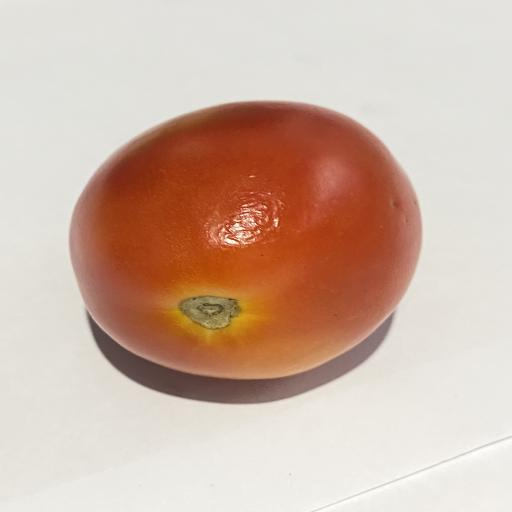overipe: (70, 102, 421, 379)
